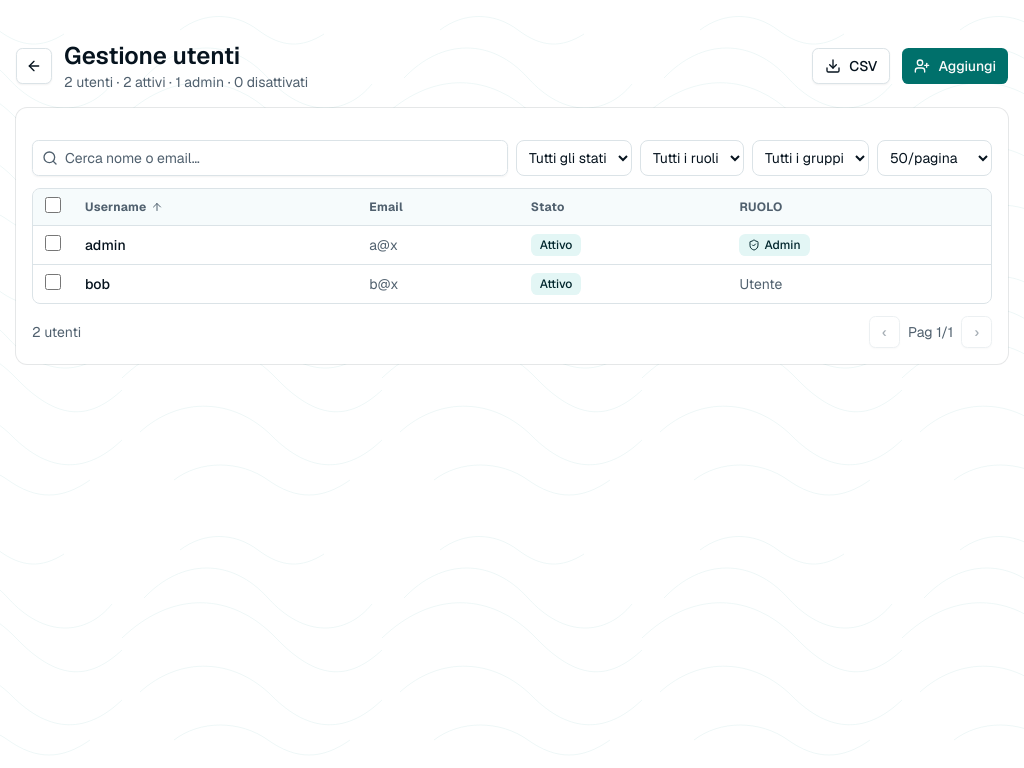
Scenario: opening a row shows the edit drawer
Step 1. Click the text "bob" → (97, 284), box 73,264 -> 357,303
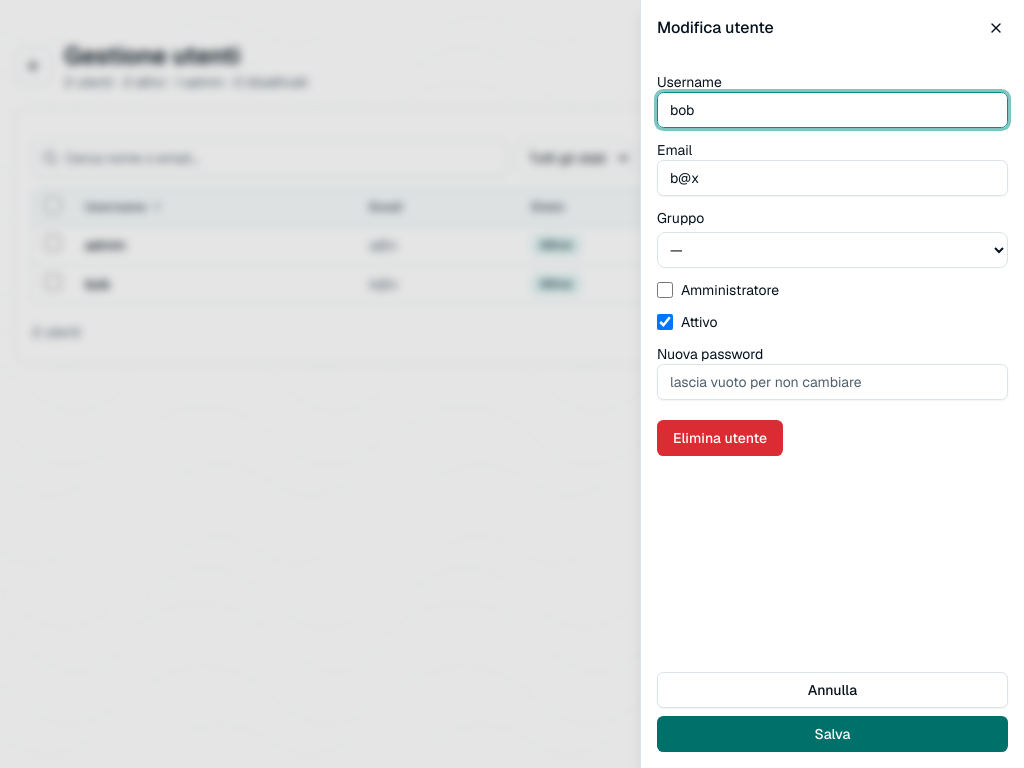
Expected: the heading "Modifica utente" is shown, 657,17 -> 774,38
